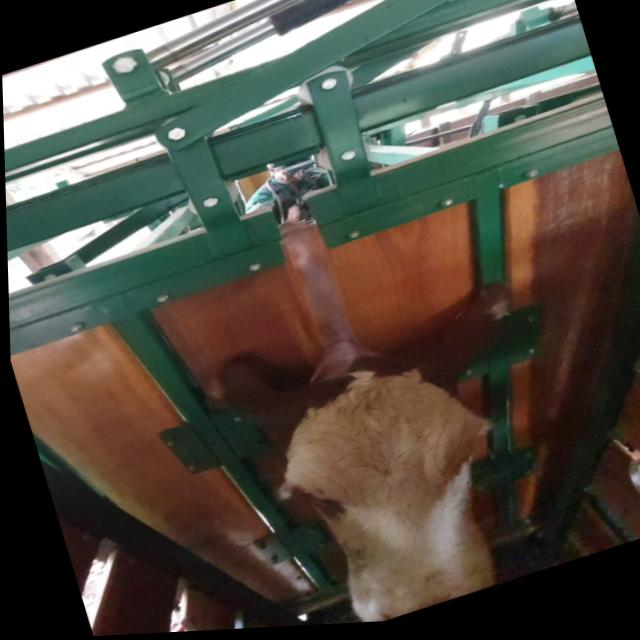cowFace: (264, 346, 524, 630)
